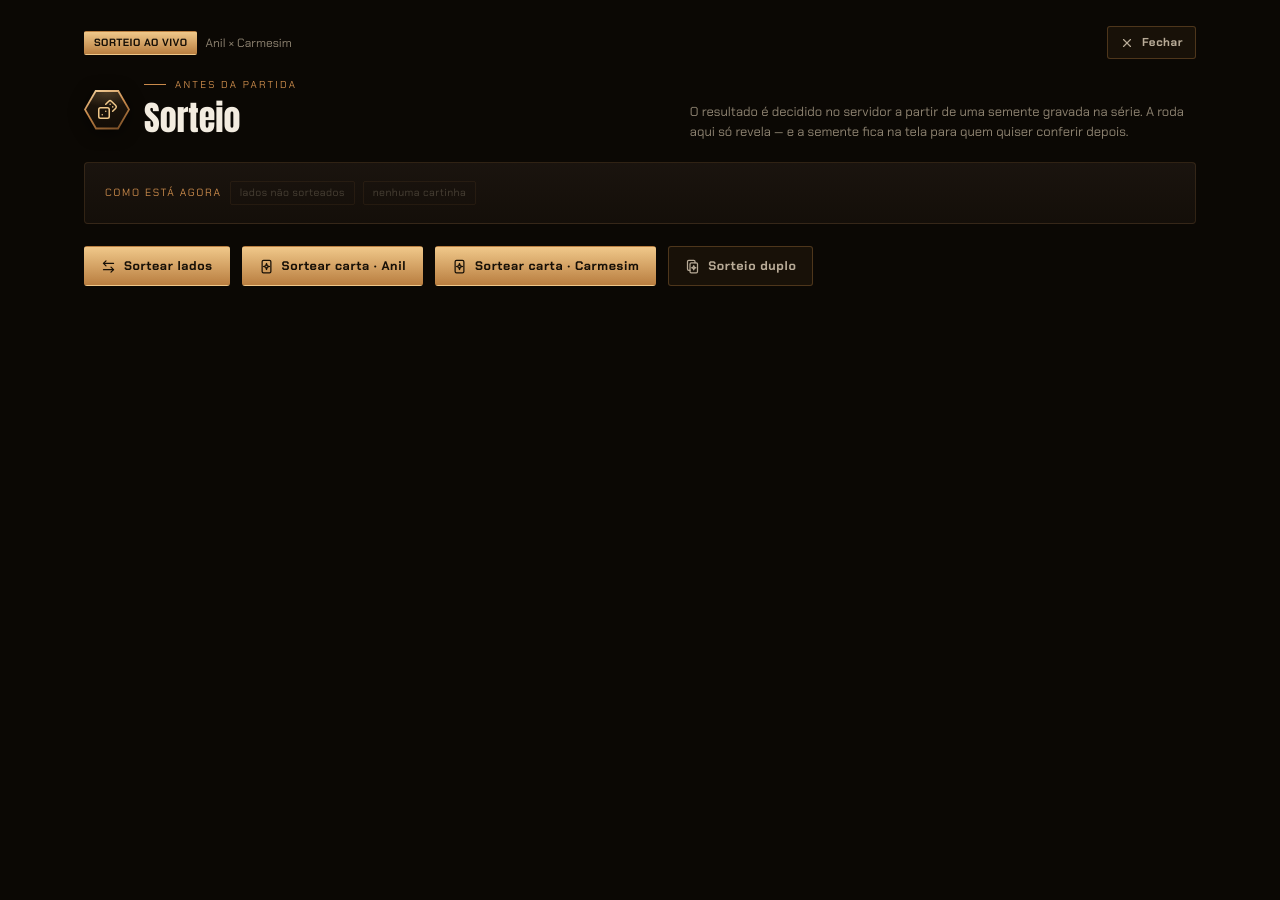
Test: sortear série que o servidor não tem (PNL-07) › o 404 manda salvar a série, em vez de 'pode sortear de novo'
Click the button "Sortear lados" at x=157, y=266, box 84,246 -> 230,286
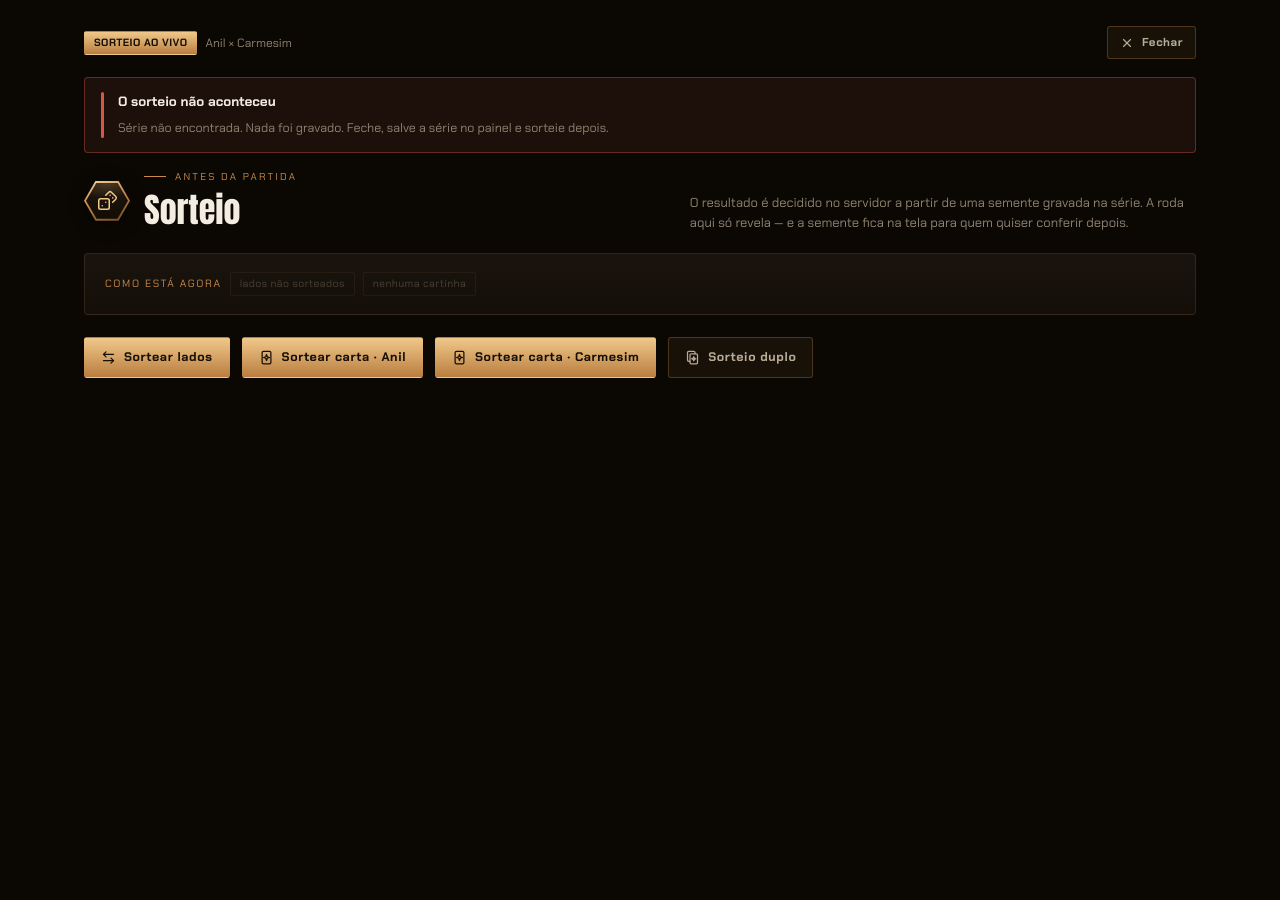
Result: the text "salve a série no painel e sorteie depois" is shown at 118,120 -> 608,136
